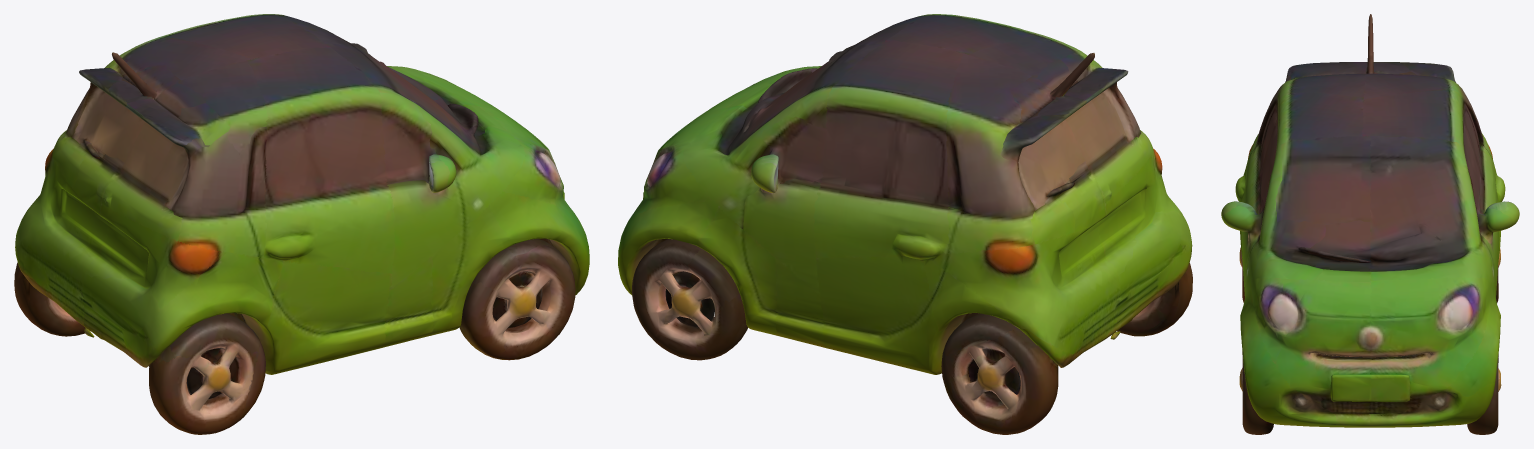
The model's file is car_modern.glb.
3 renders of one model, left to right at view 1: azimuth 30°, elevation 25°; view 2: azimuth 150°, elevation 25°; view 3: azimuth 270°, elevation 25°, orthographic. The views are drawn at different scales.
Parts seen in each view (by area): view 1: tripo_node_c482c98d-d0cb-4a3e-b8b8-f3d1be32c5e6; view 2: tripo_node_c482c98d-d0cb-4a3e-b8b8-f3d1be32c5e6; view 3: tripo_node_c482c98d-d0cb-4a3e-b8b8-f3d1be32c5e6.
Part boxes in pixels (x1=…): tripo_node_c482c98d-d0cb-4a3e-b8b8-f3d1be32c5e6: x1=14, y1=14, x2=589, y2=434; tripo_node_c482c98d-d0cb-4a3e-b8b8-f3d1be32c5e6: x1=618, y1=14, x2=1192, y2=434; tripo_node_c482c98d-d0cb-4a3e-b8b8-f3d1be32c5e6: x1=1221, y1=14, x2=1519, y2=434.
Bounding box in the file's own units: 0.9521 × 0.6644 × 0.6425.
Materials: 1 (1 with a texture image).
